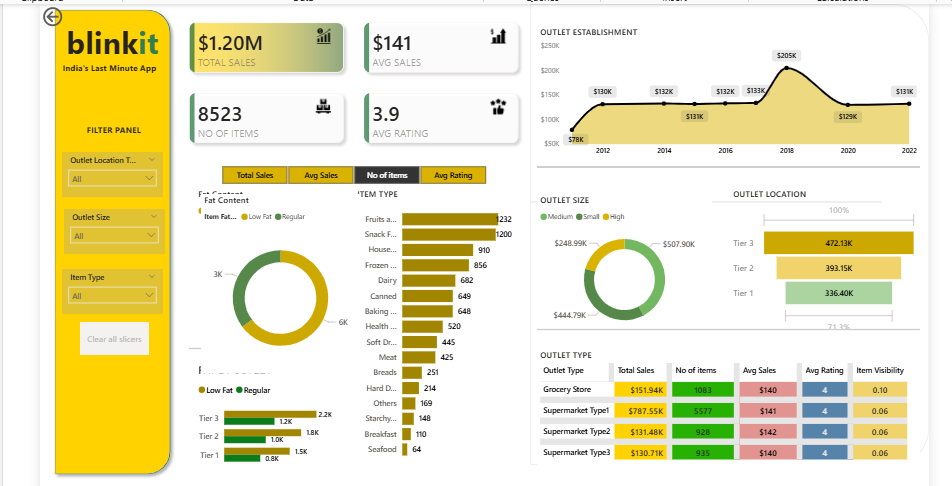

This screenshot's page, from the dashboard's own definition file:
{"tool":"powerbi","page":{"name":"Page 1","canvas":[1400,800],"ordinal":0},"visuals":[{"type":"shape","box":[14.7,0,200.3,749.6],"z":0},{"type":"textbox","box":[29.4,22,169,84.5],"z":1000},{"type":"textbox","box":[14.7,86.4,183.7,33.1],"z":2000},{"type":"cardVisual","fields":{"Data":["BlinkIT Grocery Data.Total Sales","BlinkIT Grocery Data.Avg Sales","BlinkIT Grocery Data.No of items","BlinkIT Grocery Data.Avg Rating"]},"box":[205.8,0,576.9,248],"z":3000},{"type":"donutChart","title":"Fat Content","fields":{"Y":["BlinkIT Grocery Data.No of items"],"Category":["BlinkIT Grocery Data.Item Fat Content"]},"box":[244.1,289.8,250.4,283.5],"z":4000},{"type":"slicer","fields":{"Values":["Metrics.Metrics"]},"box":[261.4,248.8,464.6,40.9],"z":5000},{"type":"cardVisual","fields":{"Data":["BlinkIT Grocery Data.No of items"]},"box":[315,418.9,110.2,67.7],"z":6000},{"type":"clusteredBarChart","title":" FAT BY OUTLET","fields":{"Y":["BlinkIT Grocery Data.No of items"],"Category":["BlinkIT Grocery Data.Outlet Location Type"],"Series":["BlinkIT Grocery Data.Item Fat Content"]},"box":[244.1,566.9,220.5,171.7],"z":7000},{"type":"actionButton","box":[0,0,100,40],"z":8000},{"type":"shape","box":[772,246.7,553.3,129],"z":9000},{"type":"shape","box":[234.6,532.3,259.8,20.5],"z":10000},{"type":"barChart","title":"ITEM TYPE","fields":{"Y":["BlinkIT Grocery Data.No of items"],"Category":["BlinkIT Grocery Data.Item Type"]},"box":[494.5,289.8,253.5,436.2],"z":11000},{"type":"shape","box":[771.7,0,628.3,726],"z":12000},{"type":"lineChart","title":"OUTLET ESTABLISHMENT","fields":{"Category":["BlinkIT Grocery Data.Outlet Establishment Year"],"Y":["BlinkIT Grocery Data.Total Sales"]},"box":[782.7,34.6,603.1,214.2],"z":13000},{"type":"shape","box":[782.7,244.1,603.1,25.2],"z":14000},{"type":"donutChart","title":"Fat Content","fields":{"Y":["BlinkIT Grocery Data.No of items"],"Category":["BlinkIT Grocery Data.Item Fat Content"]},"box":[254.1,299.8,250.4,283.5],"z":15000},{"type":"donutChart","title":"OUTLET SIZE","fields":{"Y":["BlinkIT Grocery Data.Total Sales"],"Category":["BlinkIT Grocery Data.Outlet Size"]},"box":[782.7,299.2,275.6,225.2],"z":16000},{"type":"funnel","title":"OUTLET LOCATION","fields":{"Category":["BlinkIT Grocery Data.Outlet Location Type"],"Y":["Sum(BlinkIT Grocery Data.Sales)"]},"box":[1086.6,289.8,299.2,234.6],"z":17000},{"type":"shape","box":[782.7,500.8,603.1,23.6],"z":18000},{"type":"pivotTable","title":"OUTLET TYPE","fields":{"Rows":["BlinkIT Grocery Data.Outlet Type"],"Values":["BlinkIT Grocery Data.Total Sales","BlinkIT Grocery Data.No of items","BlinkIT Grocery Data.Avg Sales","BlinkIT Grocery Data.Avg Rating","Avg(BlinkIT Grocery Data.Item Visibility)"]},"box":[782.7,543.3,603.1,206.3],"z":19000},{"type":"slicer","fields":{"Values":["BlinkIT Grocery Data.Outlet Location Type"]},"box":[34.6,233.1,159.1,70.9],"z":20000},{"type":"slicer","fields":{"Values":["BlinkIT Grocery Data.Outlet Size"]},"box":[37.8,322.8,159.1,70.9],"z":21000},{"type":"slicer","fields":{"Values":["BlinkIT Grocery Data.Item Type"]},"box":[34.6,417.3,159.1,70.9],"z":22000},{"type":"textbox","box":[36.2,184.3,160.6,29.9],"z":23000},{"type":"actionButton","box":[63,500.8,108.7,52],"z":23001}]}

Visuals, with their boxes on the page's 1400x800 design canvas (x1, y1, x2, y2). These are canvas units, not pixel positions in the 952x486 screenshot, which may show the page scaled, cropped or inside an application window:
shape: region(15, 0, 215, 750)
textbox: region(29, 22, 198, 106)
textbox: region(15, 86, 198, 120)
cardVisual - BlinkIT Grocery Data.Total Sales x BlinkIT Grocery Data.Avg Sales: region(206, 0, 783, 248)
"Fat Content" donutChart: region(244, 290, 494, 573)
slicer - Metrics.Metrics: region(261, 249, 726, 290)
cardVisual - BlinkIT Grocery Data.No of items: region(315, 419, 425, 487)
" FAT BY OUTLET" clusteredBarChart: region(244, 567, 465, 739)
actionButton: region(0, 0, 100, 40)
shape: region(772, 247, 1325, 376)
shape: region(235, 532, 494, 553)
"ITEM TYPE" barChart: region(494, 290, 748, 726)
shape: region(772, 0, 1400, 726)
"OUTLET ESTABLISHMENT" lineChart: region(783, 35, 1386, 249)
shape: region(783, 244, 1386, 269)
"Fat Content" donutChart: region(254, 300, 504, 583)
"OUTLET SIZE" donutChart: region(783, 299, 1058, 524)
"OUTLET LOCATION" funnel: region(1087, 290, 1386, 524)
shape: region(783, 501, 1386, 524)
"OUTLET TYPE" pivotTable: region(783, 543, 1386, 750)
slicer - BlinkIT Grocery Data.Outlet Location Type: region(35, 233, 194, 304)
slicer - BlinkIT Grocery Data.Outlet Size: region(38, 323, 197, 394)
slicer - BlinkIT Grocery Data.Item Type: region(35, 417, 194, 488)
textbox: region(36, 184, 197, 214)
actionButton: region(63, 501, 172, 553)
